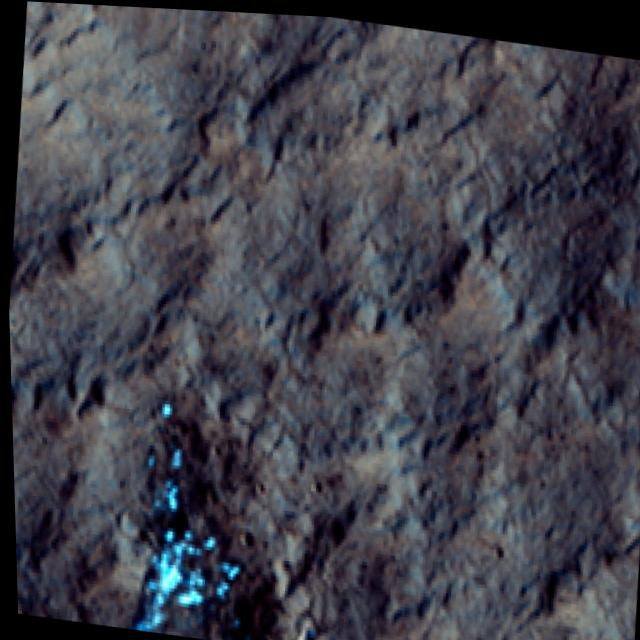Crater: (19, 356, 327, 640)
